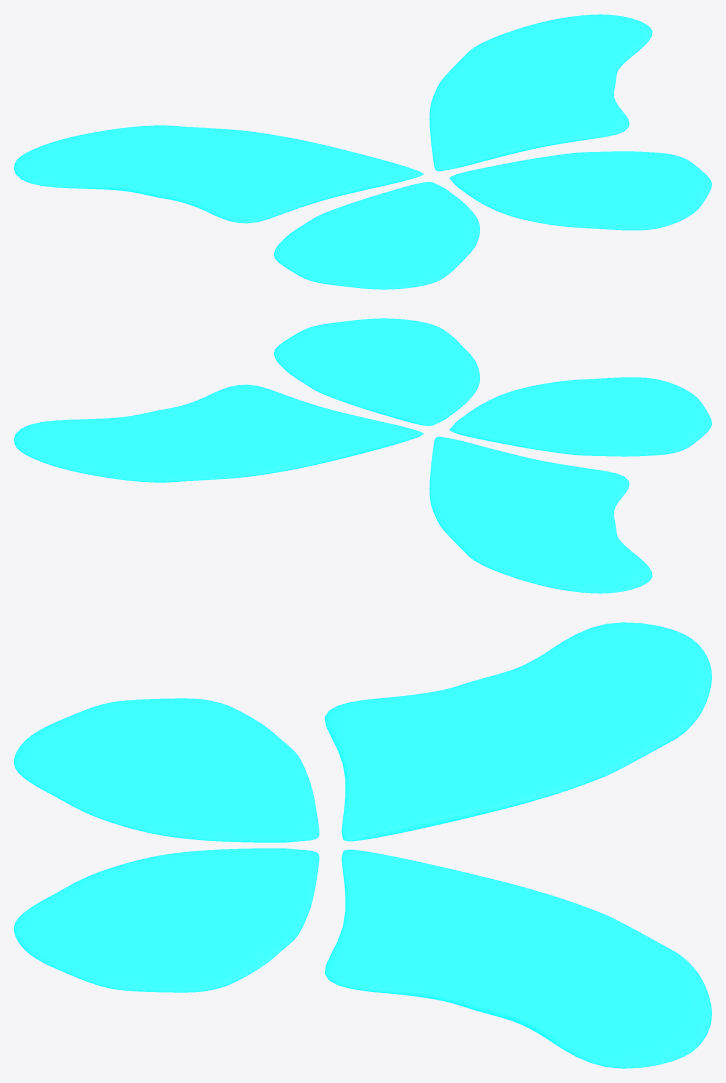
File: butterfly_00.glb
3 views of the same model, one above another, from view 1: azimuth 30°, elevation 25°; view 2: azimuth 150°, elevation 25°; view 3: azimuth 270°, elevation 25° (orthographic). The views are drawn at different scales.
Parts seen in each view (by area): view 1: Plane; view 2: Plane; view 3: Plane.
Boxes of the visible parts, bbox=[...] form: Plane: bbox=[14, 14, 711, 289]; Plane: bbox=[14, 318, 711, 593]; Plane: bbox=[14, 622, 711, 1068].
Bounding box in the file's own units: 17.77 × 0.1319 × 11.75.
